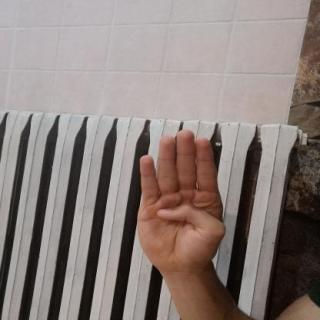KAAF: (119, 121, 244, 285)
